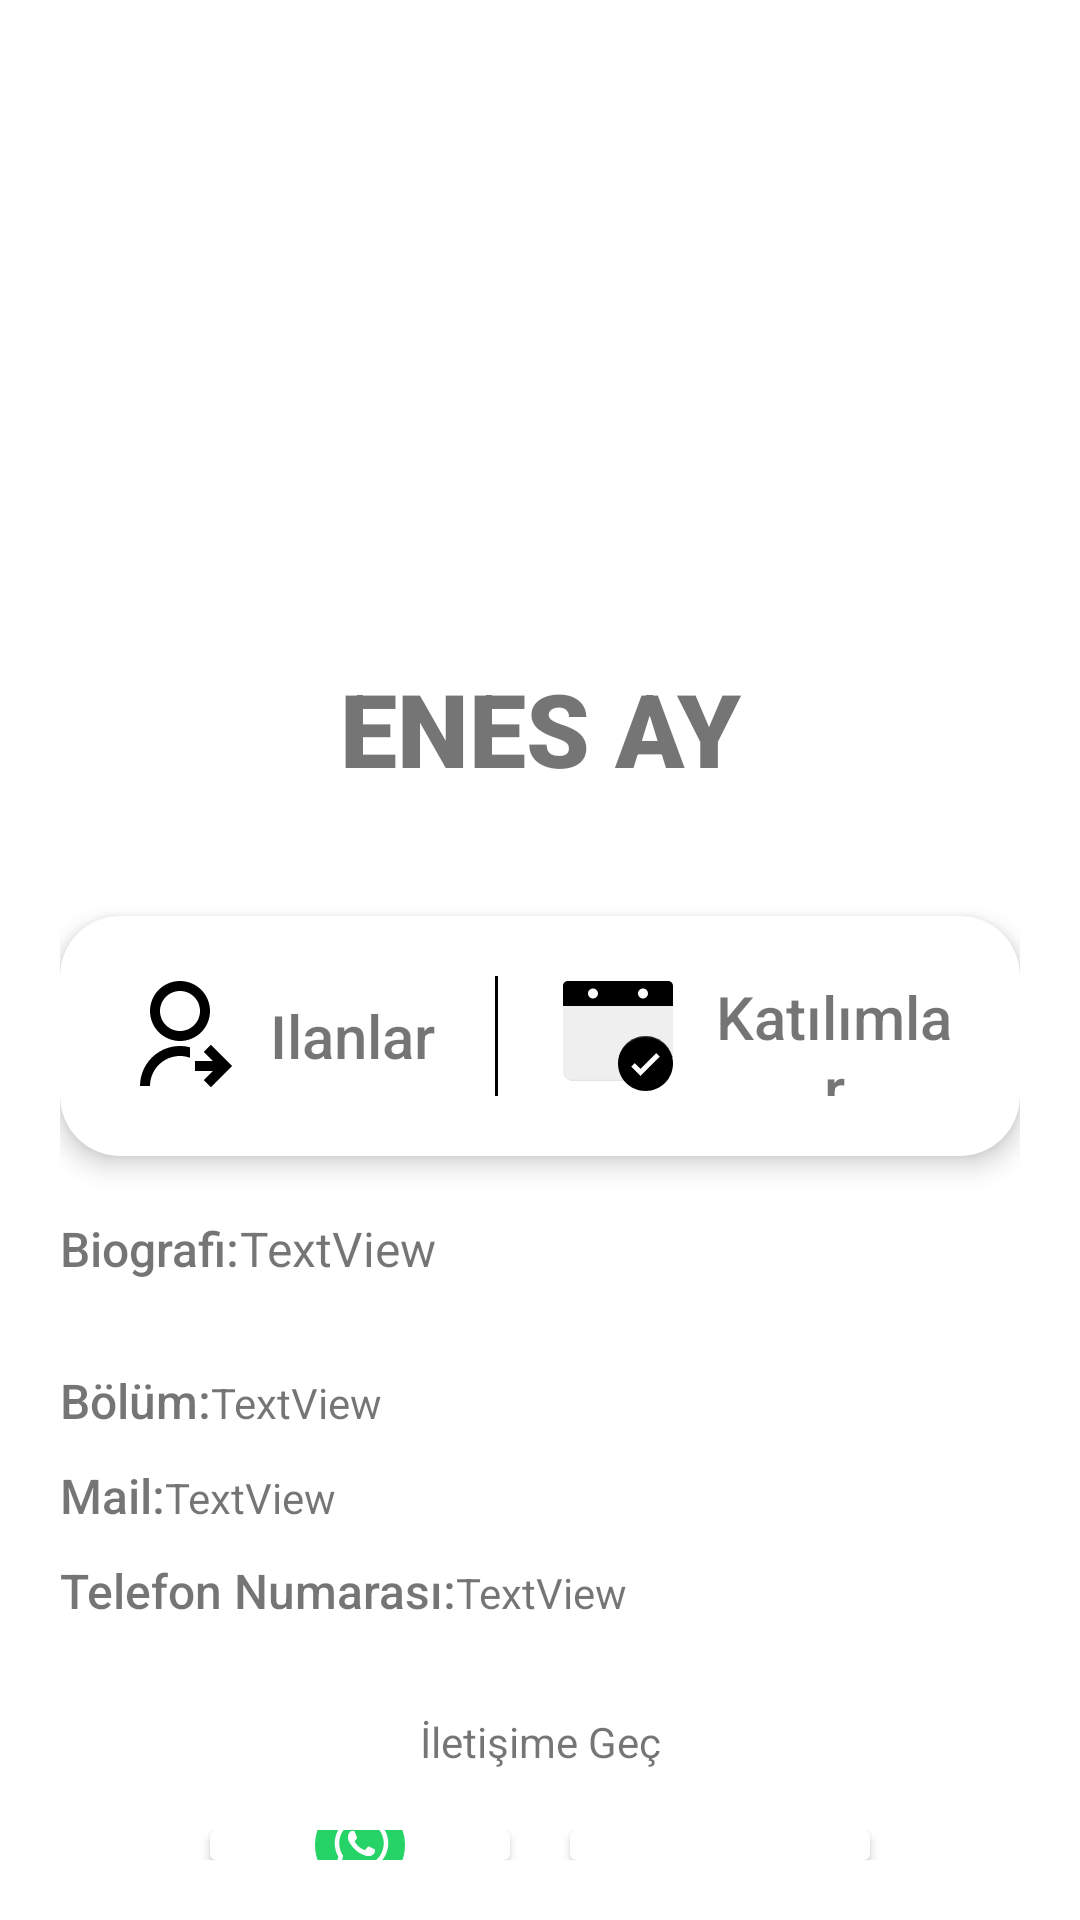

Icons on this 1080 x 1920 Android screen, each with the point to tap as (x=x, y=y):
attend: (x=618, y=1036)
shared: (x=186, y=1034)
